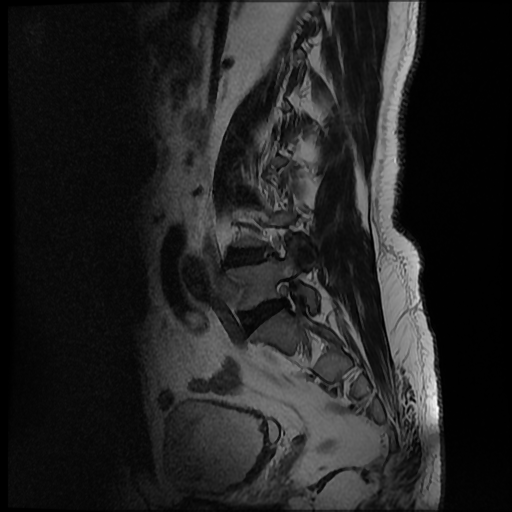RFS1: (266, 270, 307, 326)
